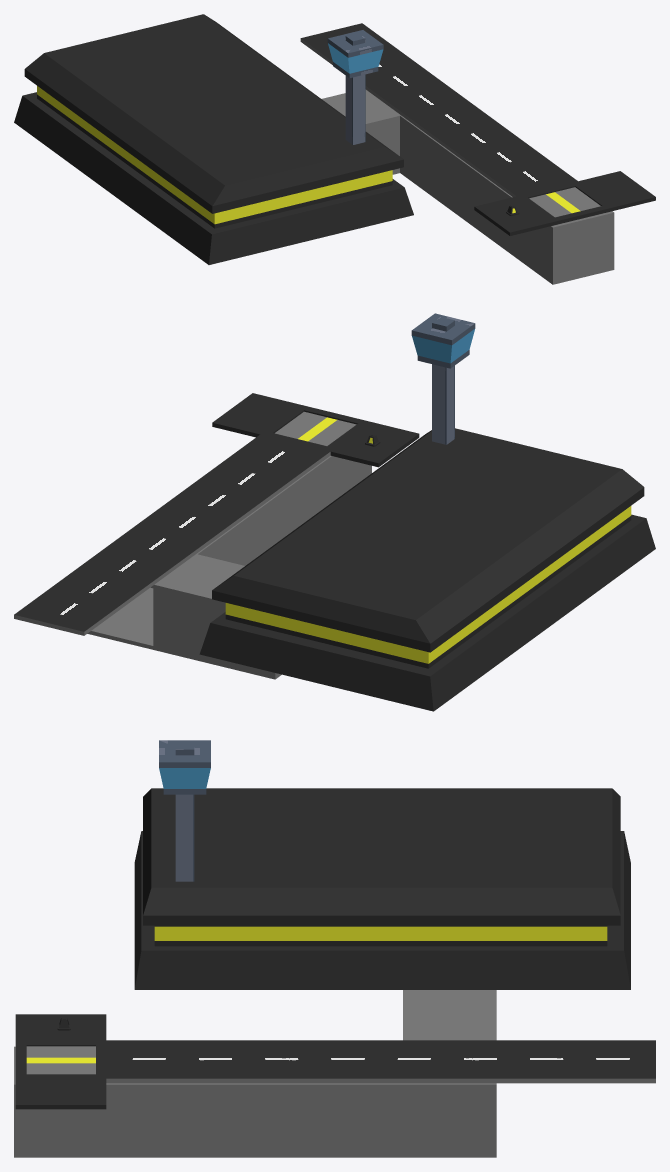
Rendered from spaceship.fbx.
3 views of the same model, one above another, from view 1: azimuth 30°, elevation 25°; view 2: azimuth 150°, elevation 25°; view 3: azimuth 270°, elevation 25° (orthographic). The views are drawn at different scales.
Parts seen in each view (by area): view 1: spaceport, runway, tunnelend, taxiterminal, tower, tunnel_1, tunnel, terminal, tunnel_2, door_1, door; view 2: spaceport, runway, terminal, taxiterminal, tower, junction, tunnel_2, tunnel_1, tunnelend, tunnel, door_1, door; view 3: spaceport, runway, tunnel, tunnel_1, tunnel_2, junction, taxiterminal, tunnelend, terminal, tower, door_1, door.
Part boxes in pixels (left/top/right/bottom): spaceport: left=14, top=14, right=413, bottom=264; runway: left=300, top=23, right=577, bottom=196; tunnelend: left=514, top=211, right=614, bottom=284; taxiterminal: left=474, top=171, right=655, bottom=235; tower: left=327, top=30, right=383, bottom=144; tunnel_1: left=438, top=143, right=477, bottom=228; tunnel: left=400, top=115, right=438, bottom=200; terminal: left=322, top=93, right=397, bottom=174; tunnel_2: left=476, top=171, right=514, bottom=256; door_1: left=548, top=187, right=600, bottom=211; door: left=529, top=194, right=578, bottom=217; spaceport: left=199, top=428, right=655, bottom=711; runway: left=14, top=434, right=330, bottom=635; terminal: left=158, top=555, right=281, bottom=679; taxiterminal: left=212, top=393, right=419, bottom=467; tower: left=411, top=313, right=475, bottom=444; junction: left=87, top=554, right=199, bottom=650; tunnel_2: left=283, top=458, right=328, bottom=536; tunnel_1: left=240, top=490, right=284, bottom=565; tunnelend: left=327, top=455, right=371, bottom=504; tunnel: left=133, top=522, right=241, bottom=604; door_1: left=275, top=411, right=329, bottom=440; door: left=305, top=418, right=356, bottom=445; spaceport: left=134, top=788, right=630, bottom=989; runway: left=106, top=1040, right=655, bottom=1083; tunnel: left=305, top=1083, right=402, bottom=1157; tunnel_1: left=208, top=1083, right=305, bottom=1157; tunnel_2: left=111, top=1083, right=208, bottom=1157; junction: left=403, top=1083, right=496, bottom=1157; taxiterminal: left=15, top=1014, right=106, bottom=1109; tunnelend: left=14, top=1046, right=111, bottom=1157; terminal: left=403, top=990, right=496, bottom=1040; tower: left=159, top=740, right=210, bottom=881; door_1: left=26, top=1059, right=95, bottom=1074; door: left=26, top=1046, right=95, bottom=1061.
Bounding box in the file's own units: 351 × 193 × 383.
1 material, 1 textured.
